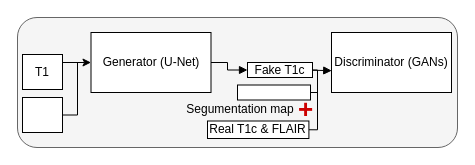
This 475x165 diagram has some shape labels left out. Each missing label, with the centre of its shape:
"Fake FLAIR" belongs at point 273,92.
"T2" belongs at point 42,114.
